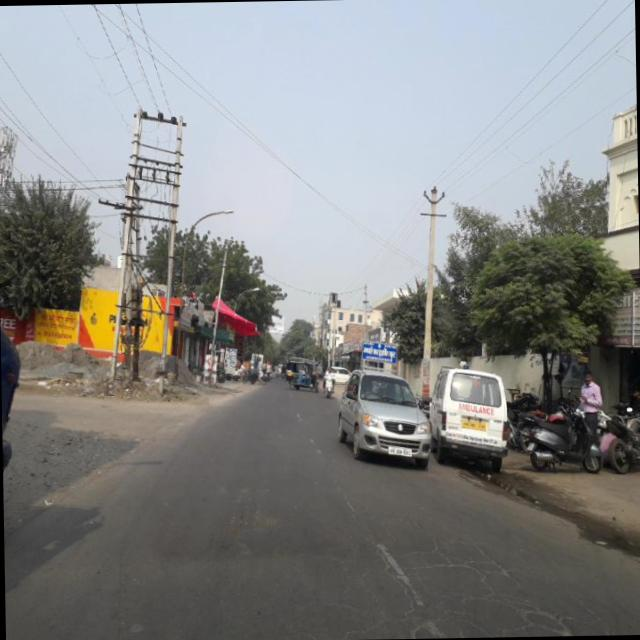crack: (347, 518, 570, 636)
